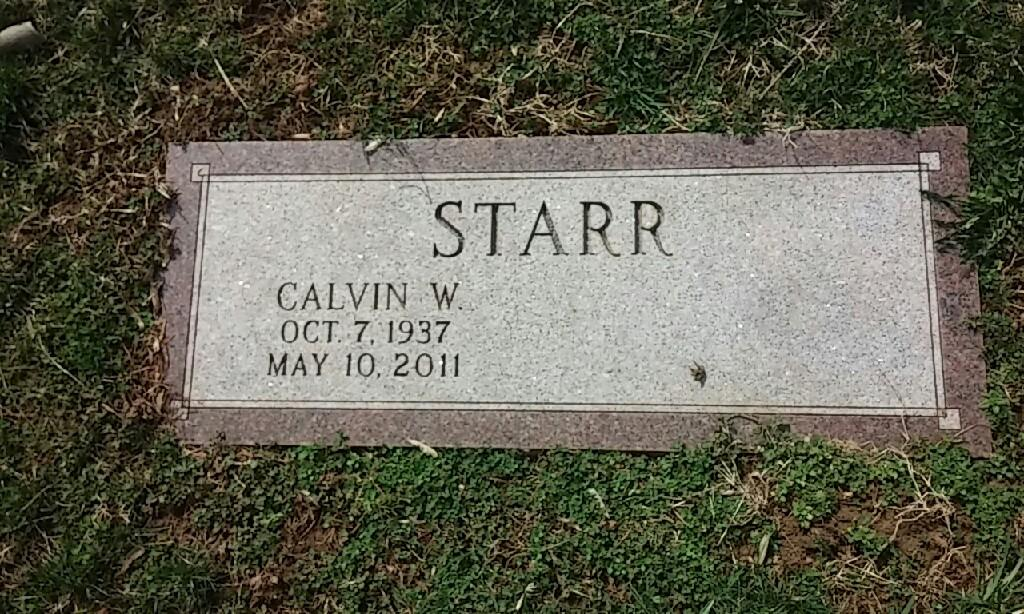flat: (154, 125, 995, 461)
